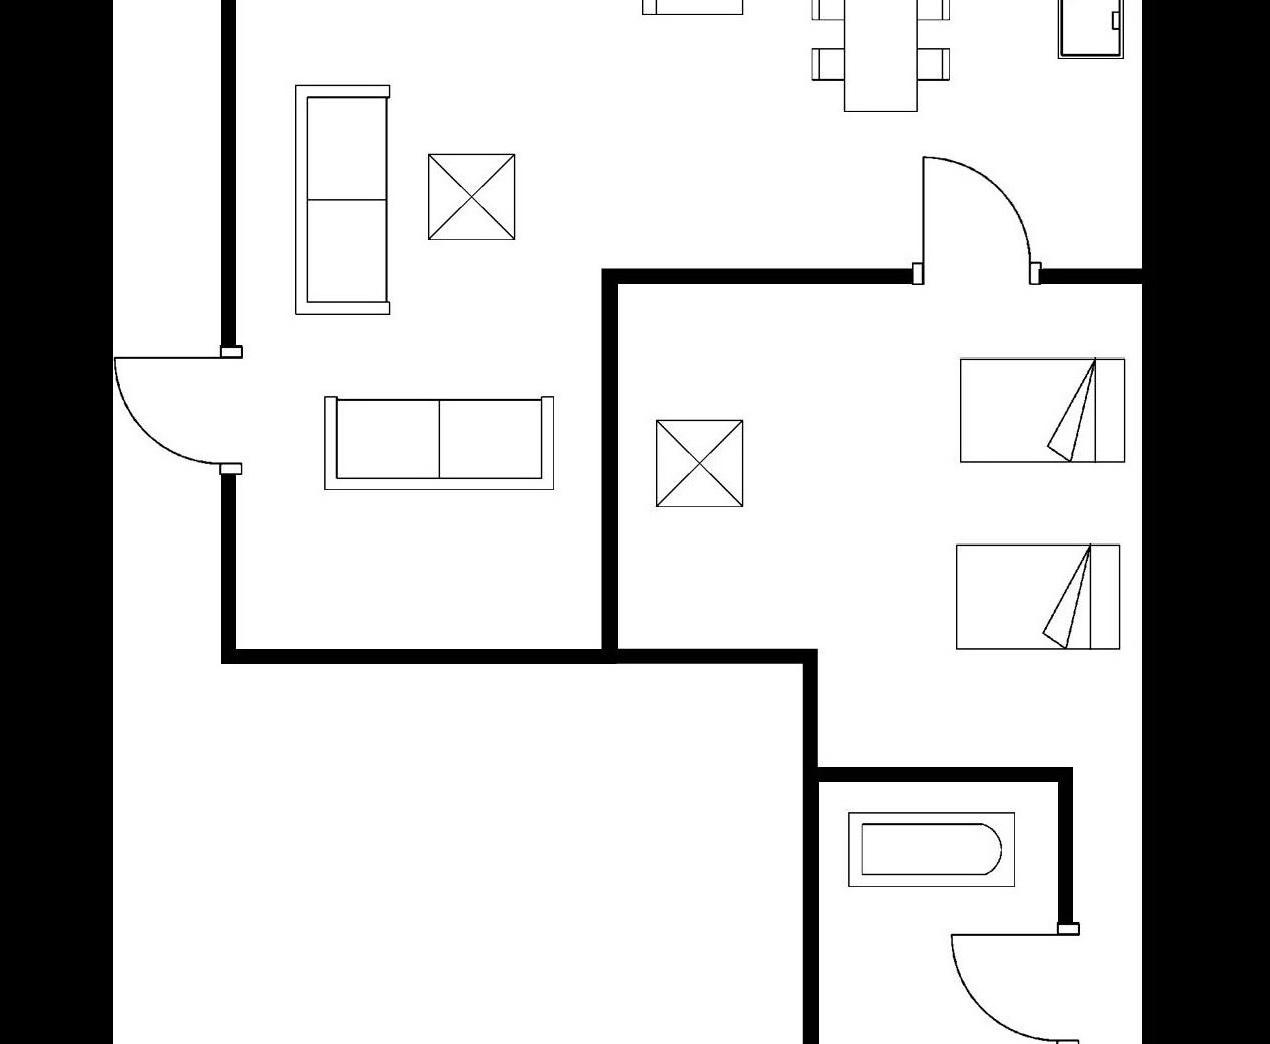bed: (952, 348, 1130, 469), (949, 537, 1127, 656)
dining_table: (805, 0, 957, 118)
sink: (1050, 0, 1127, 64)
sofa: (288, 78, 396, 320), (317, 391, 559, 491)
tub: (842, 803, 1024, 891)
